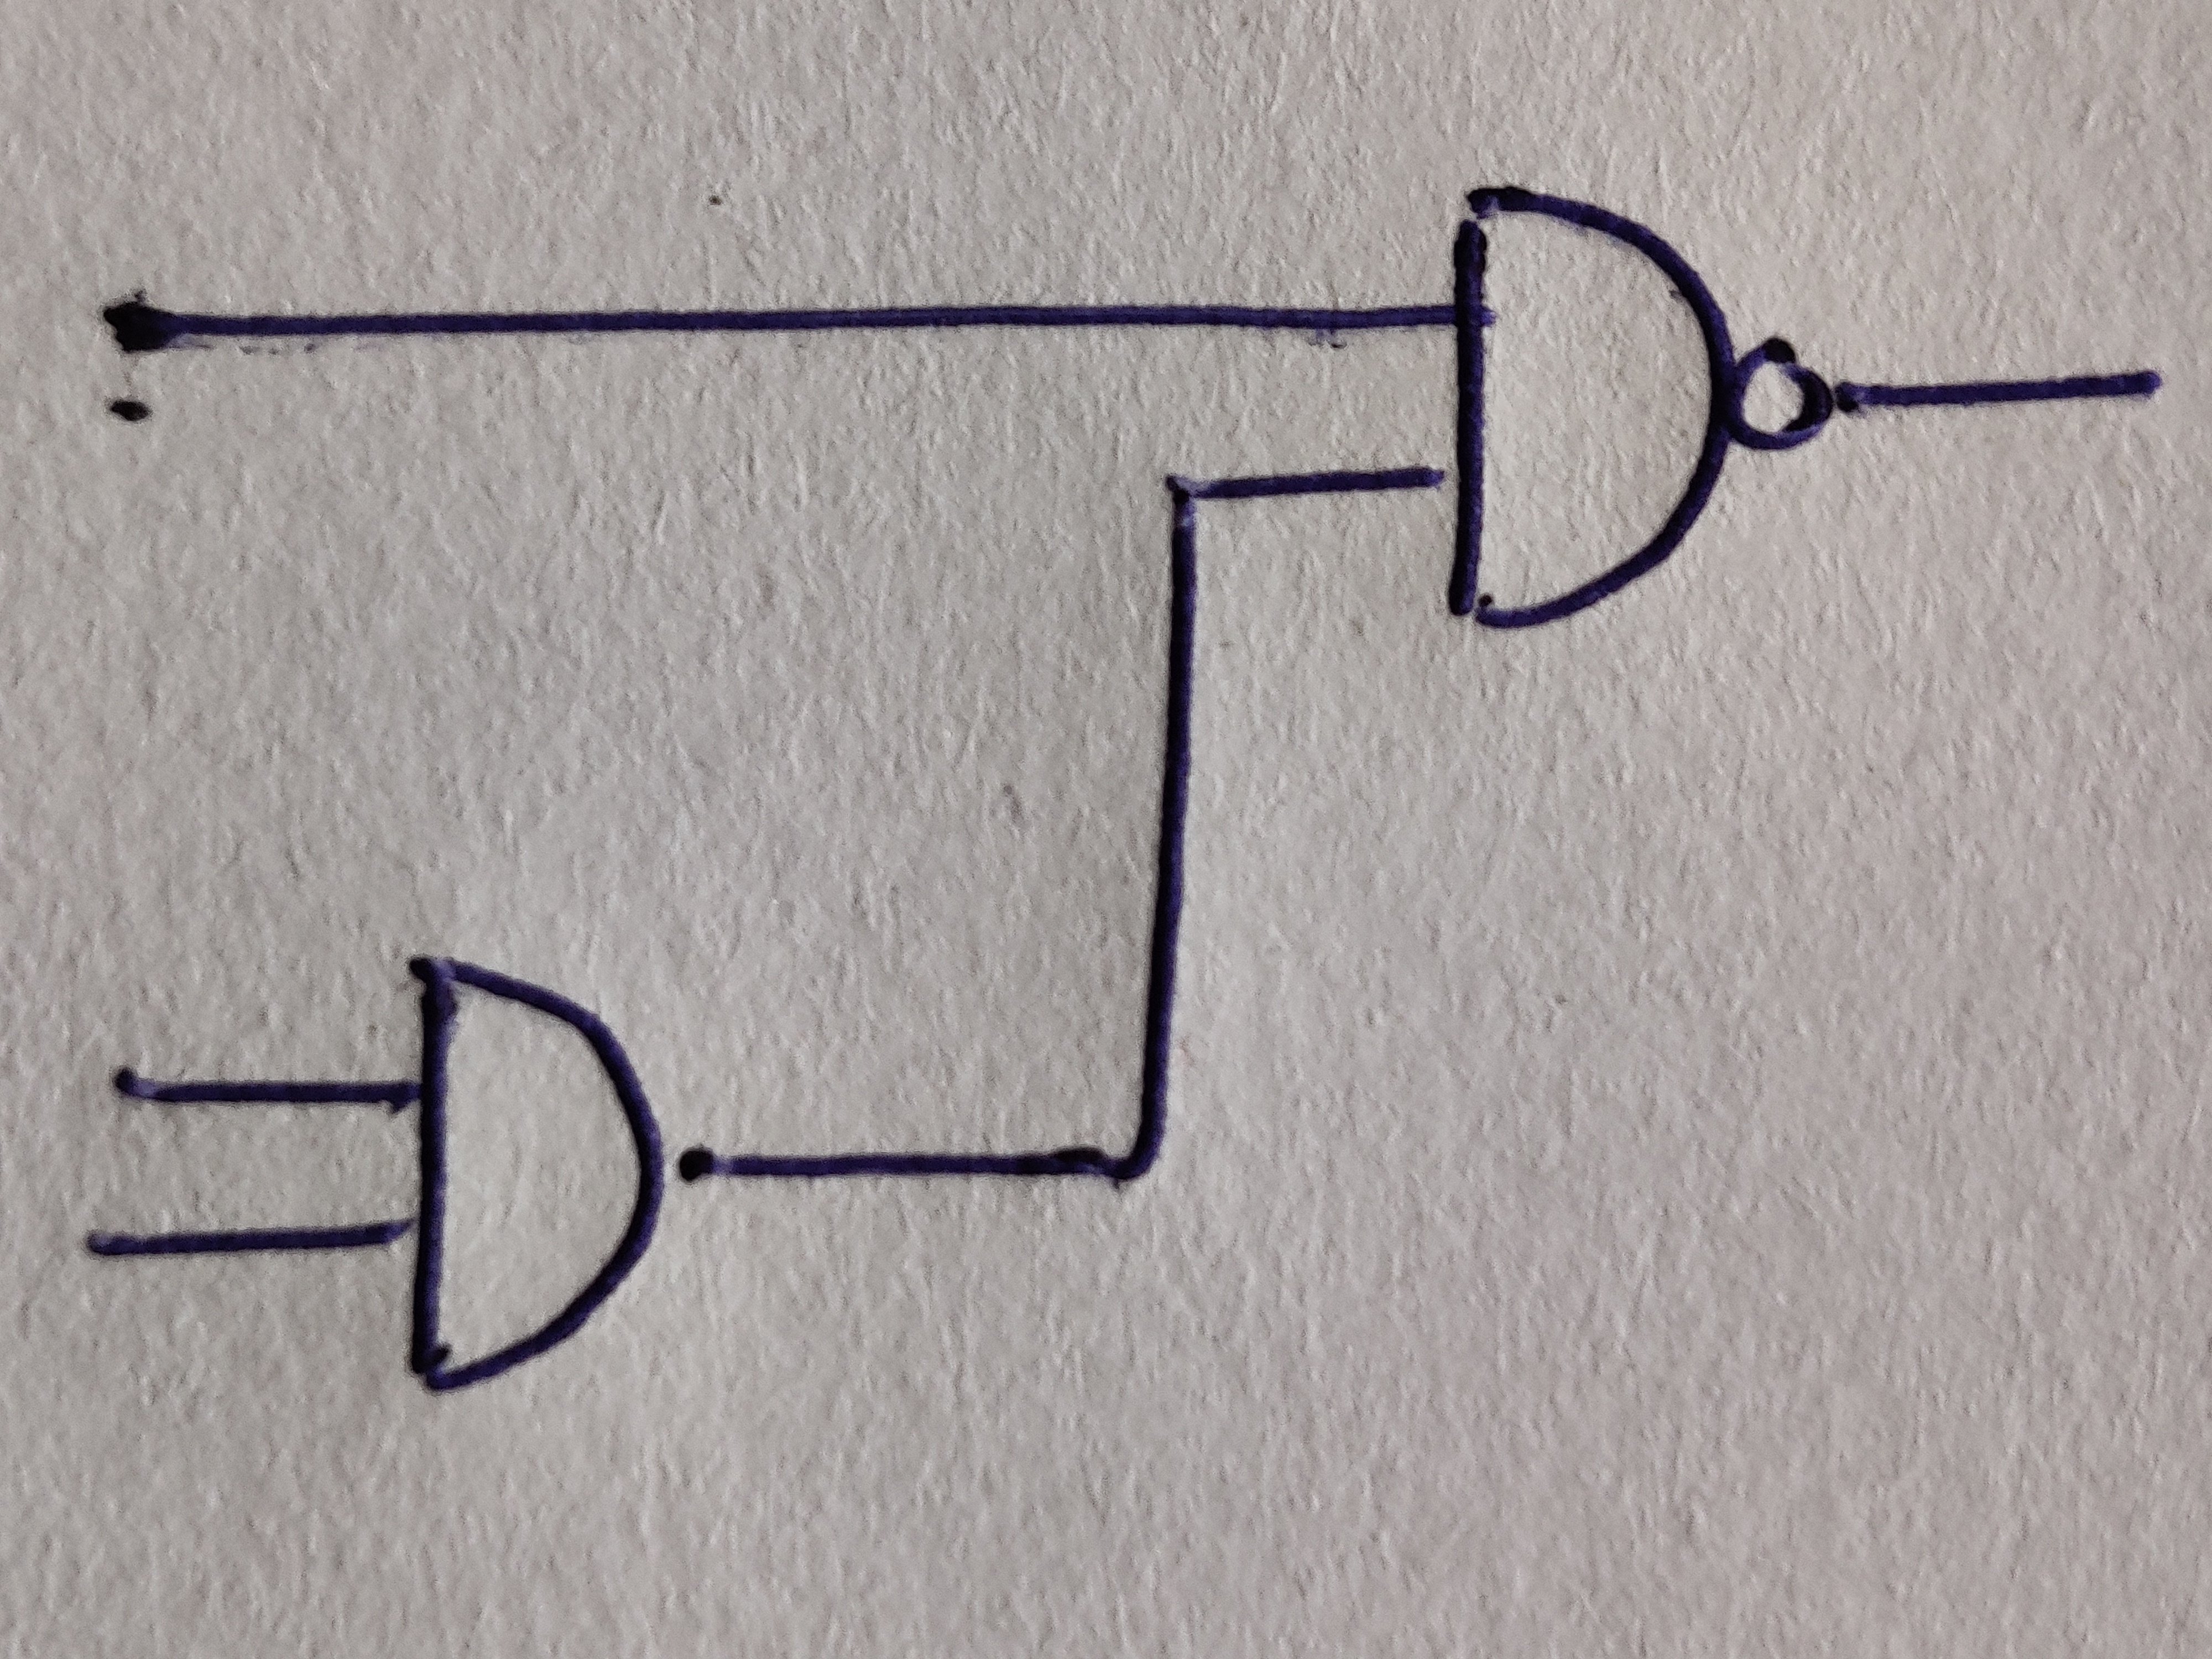and: (1449, 186, 1737, 627), (408, 955, 665, 1394)
not: (1735, 336, 1834, 451)
